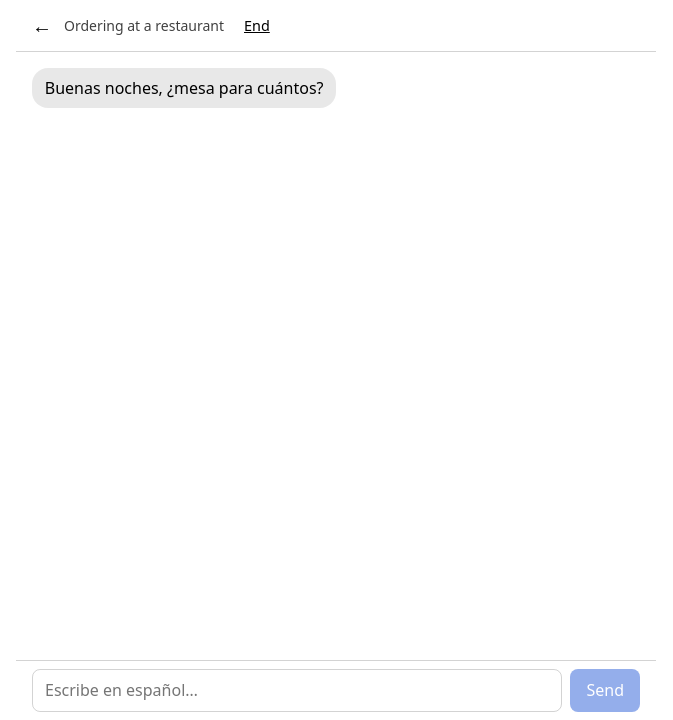
leaves a clean message unmarked
The width and height of the screenshot is (673, 720).
Expected: the text "Ordering at a restaurant" is shown, [64,16,224,35]
Type "Estoy bien." into the field named "Your message". click: x=297, y=690
box: [32,669,562,712]
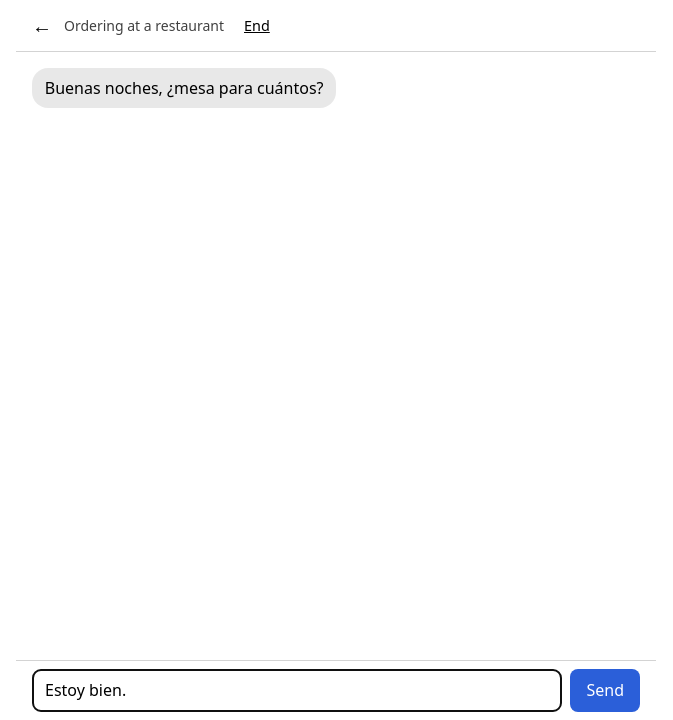
Click the button "Send". click: x=605, y=690
box: [570,669,640,712]
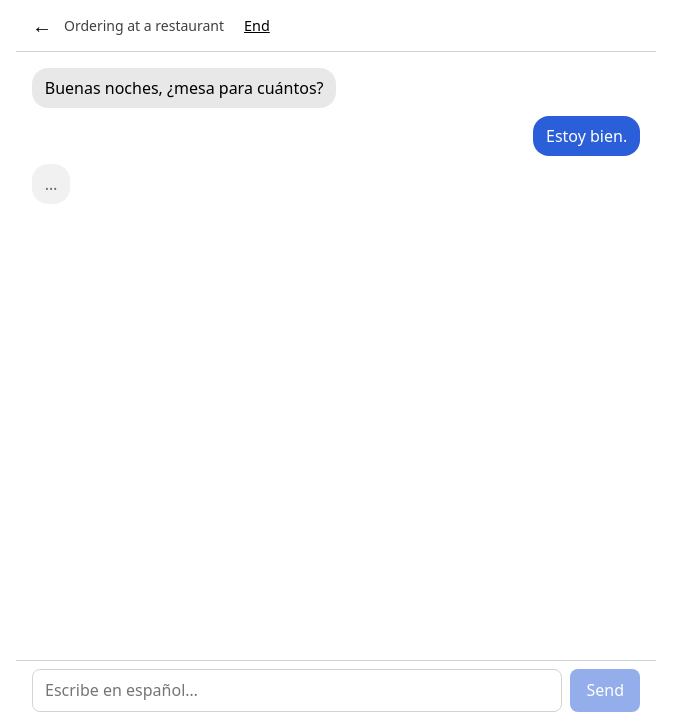
Expected: the text "Estoy bien." is shown, [533,116,640,156]
